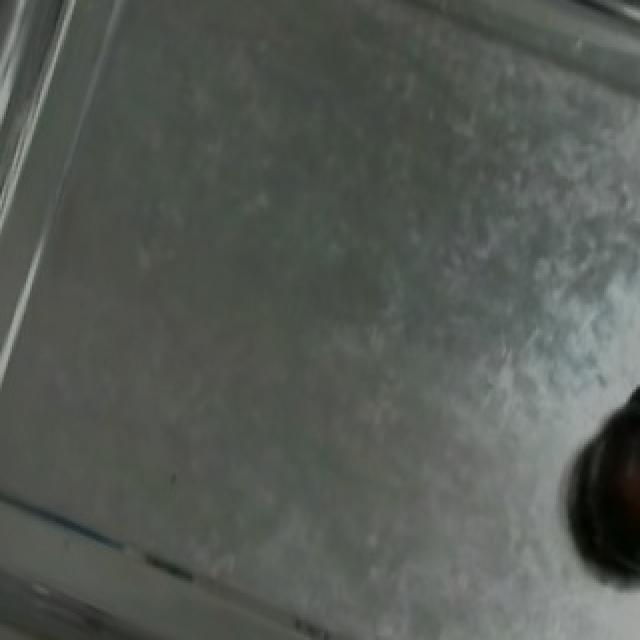Fruit: (564, 379, 640, 583)
